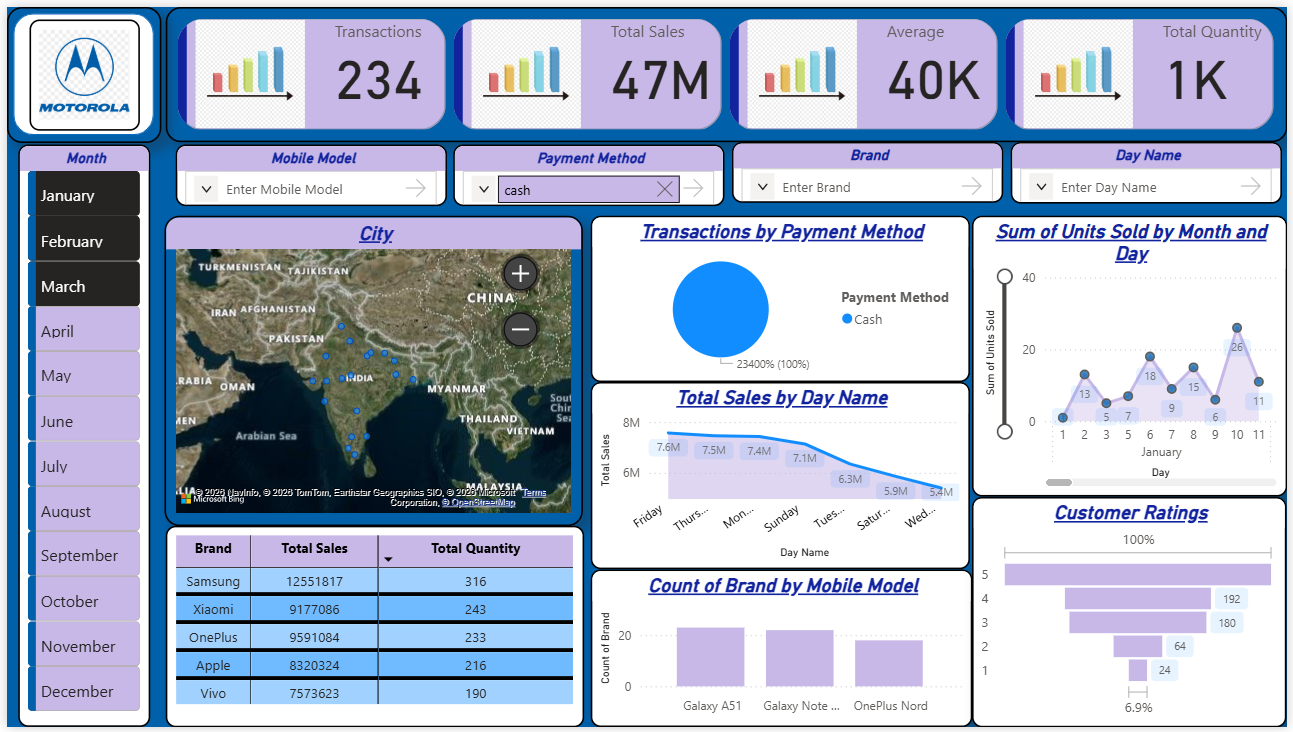

The dashboard page shown, as its layout file describes it:
{"tool":"powerbi","page":{"name":"Page 1","canvas":[1280,720],"ordinal":0},"visuals":[{"type":"shape","box":[0,0,154.3,135.7],"z":0},{"type":"advancedSlicerVisual","fields":{"Values":["Sales_Data.Date.Variation.Date Hierarchy.Month"]},"box":[11.5,137.7,132.3,582.3],"z":2000},{"type":"image","box":[22.9,12.9,110,111.4],"z":3000},{"type":"cardVisual","fields":{"Data":["Sales_Data.Transactions","Sales_Data.totalsales","Sales_Data.Average","Sales_Data.Total Quantity"]},"box":[158.3,0,1121.7,135],"z":4000},{"type":"map","fields":{"Category":["Sales_Data.City"]},"box":[158,208.7,418.6,310.1],"z":5000},{"type":"lineChart","fields":{"Y":["Sum(Sales_Data.Units Sold)"],"Category":["Sales_Data.Date.Variation.Date Hierarchy.Month","Sales_Data.Date.Variation.Date Hierarchy.Day"]},"box":[965.2,208.7,314.9,281.1],"z":6000},{"type":"columnChart","fields":{"Category":["Sales_Data.Mobile Model"],"Y":["CountNonNull(Sales_Data.Brand)"]},"box":[583.6,562.7,381.8,157.3],"z":7000},{"type":"pieChart","fields":{"Category":["Sales_Data.Payment Method"],"Y":["Sales_Data.Transactions"]},"box":[583.9,208.7,378.8,166.5],"z":8000},{"type":"funnel","title":"Customer Ratings","fields":{"Category":["Sales_Data.Customer Ratings"],"Y":["Sum(Sales_Data.Customer Ratings)"]},"box":[965.6,490,314.4,230],"z":9000},{"type":"areaChart","fields":{"Category":["Sales_Data.Day Name"],"Y":["Sales_Data.totalsales"]},"box":[583.6,375.5,379.1,187.3],"z":10000},{"type":"tableEx","fields":{"Values":["Sales_Data.Brand","Sales_Data.totalsales","Sales_Data.Total Quantity"]},"box":[158.3,518.3,418.3,201.7],"z":11000},{"type":"textSlicer","fields":{"Values":["Sales_Data.Mobile Model"]},"box":[168.5,136.9,271.5,61.5],"z":12000},{"type":"textSlicer","fields":{"Values":["Sales_Data.Payment Method"]},"box":[445.7,137.1,271.4,61.4],"z":14000},{"type":"textSlicer","fields":{"Values":["Sales_Data.Brand"]},"box":[725.5,135.5,270.9,60.9],"z":15000},{"type":"textSlicer","fields":{"Values":["Sales_Data.Day Name"]},"box":[1003.8,135.1,271.4,61.5],"z":16000}]}

Visuals, with their boxes in screenshot pixels (x1, y1, x2, y2), scaled from the page's 1280x720 canvas onto the 1293x732 screenshot:
shape: rect(0, 0, 156, 138)
advancedSlicerVisual - Sales_Data.Date.Variation.Date Hierarchy.Month: rect(12, 140, 145, 731)
image: rect(23, 13, 134, 126)
cardVisual - Sales_Data.Transactions x Sales_Data.totalsales: rect(160, 0, 1292, 137)
map - Sales_Data.City: rect(160, 212, 582, 527)
lineChart - Sum(Sales_Data.Units Sold) x Sales_Data.Date.Variation.Date Hierarchy.Month: rect(975, 212, 1292, 498)
columnChart - Sales_Data.Mobile Model x CountNonNull(Sales_Data.Brand): rect(590, 572, 975, 731)
pieChart - Sales_Data.Payment Method x Sales_Data.Transactions: rect(590, 212, 972, 381)
"Customer Ratings" funnel: rect(975, 498, 1292, 731)
areaChart - Sales_Data.Day Name x Sales_Data.totalsales: rect(590, 382, 972, 572)
tableEx - Sales_Data.Brand x Sales_Data.totalsales: rect(160, 527, 582, 731)
textSlicer - Sales_Data.Mobile Model: rect(170, 139, 444, 202)
textSlicer - Sales_Data.Payment Method: rect(450, 139, 724, 202)
textSlicer - Sales_Data.Brand: rect(733, 138, 1007, 200)
textSlicer - Sales_Data.Day Name: rect(1014, 137, 1288, 200)
